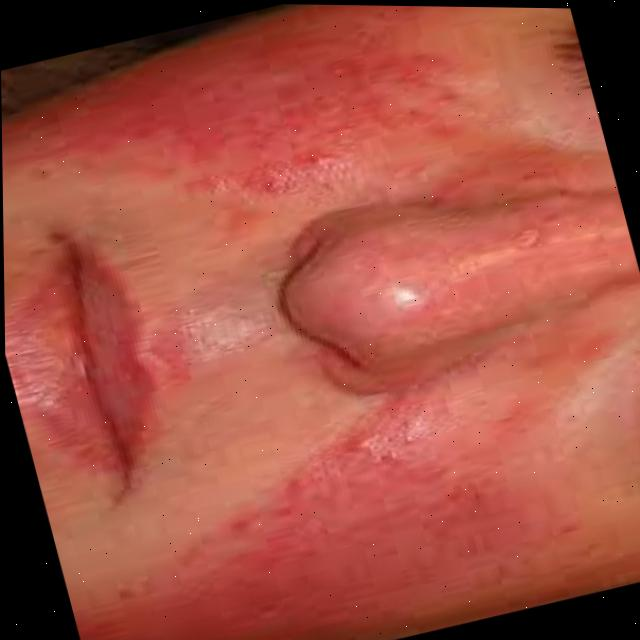Rosacea: (85, 324, 640, 640), (0, 0, 496, 291), (300, 151, 640, 399)
